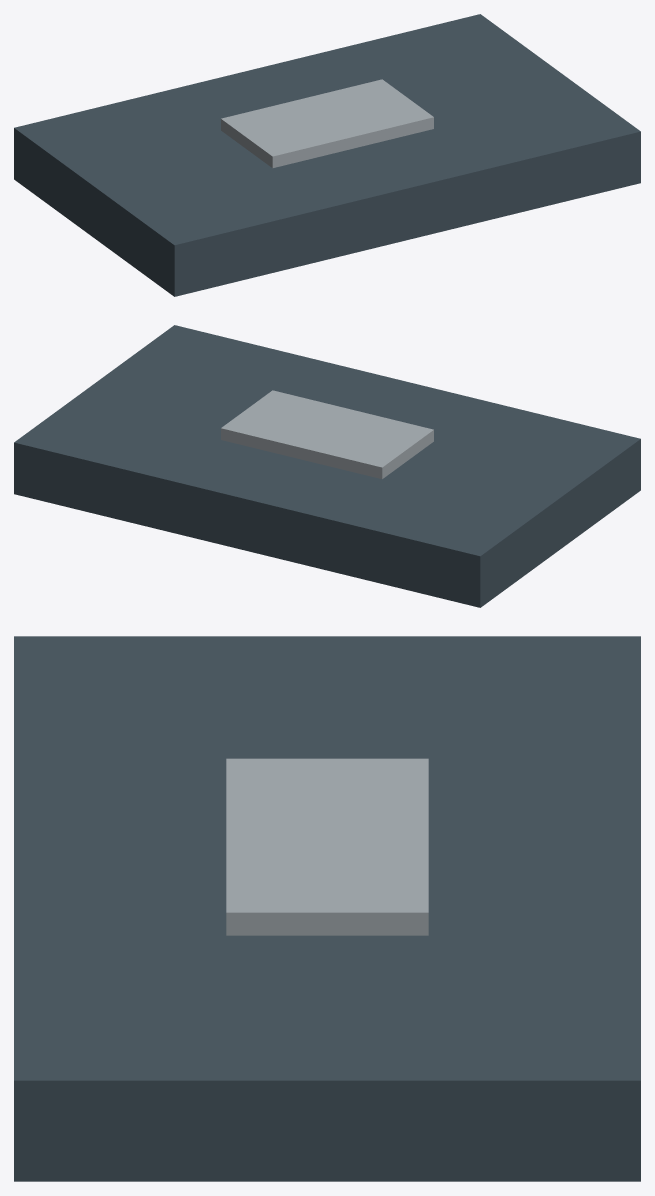
The model's file is rtg_trolley.dae.
The picture shows the model from 3 angles, top to bottom: view 1: azimuth 30°, elevation 25°; view 2: azimuth 150°, elevation 25°; view 3: azimuth 270°, elevation 25°; orthographic projection. The views are drawn at different scales.
Visible parts, largest first — view 1: frame, hoist_motor; view 2: frame, hoist_motor; view 3: frame, hoist_motor.
Boxes of the visible parts, <box> form: frame: <box>14,14,640,296</box>; hoist_motor: <box>221,79,433,168</box>; frame: <box>14,325,640,607</box>; hoist_motor: <box>221,390,433,479</box>; frame: <box>14,636,640,1181</box>; hoist_motor: <box>226,758,428,935</box>.
Bounding box in the file's own units: 5.2 × 3.1 × 0.8.
